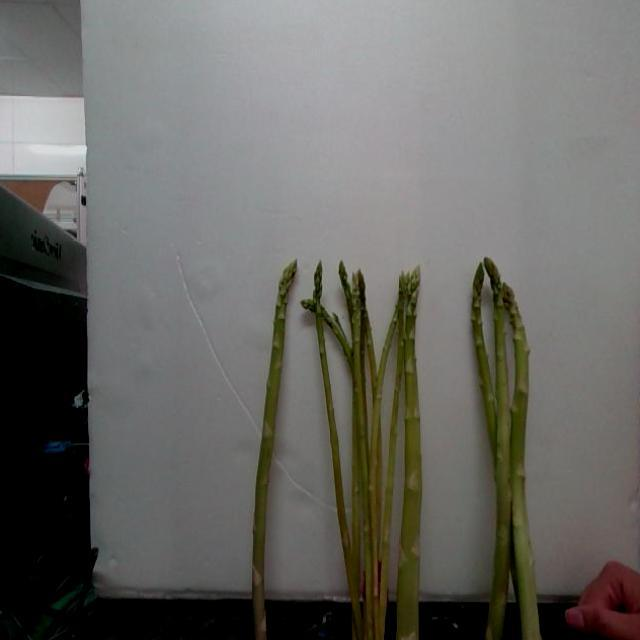aspargus: (249, 263, 297, 640), (498, 284, 543, 640)
